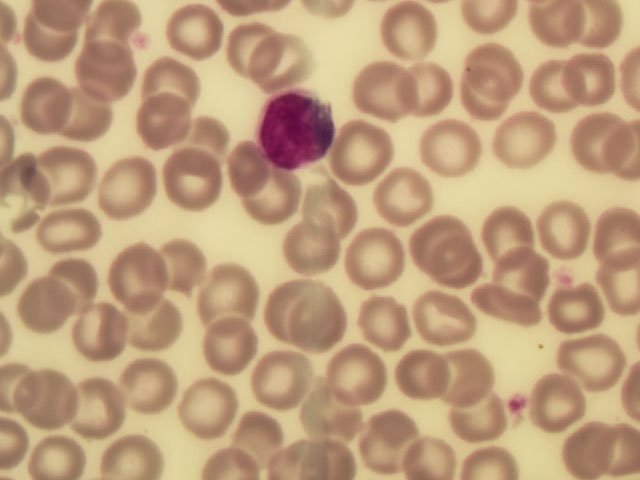Platelets: (504, 389, 526, 429), (134, 30, 158, 57), (553, 265, 571, 284)
RBC: (20, 6, 80, 67), (77, 36, 137, 97), (64, 82, 124, 143), (20, 82, 80, 143), (36, 145, 96, 206), (97, 156, 157, 217), (130, 91, 190, 152), (142, 49, 202, 110), (169, 3, 229, 64), (207, 15, 267, 76), (257, 23, 317, 84), (185, 102, 245, 163), (168, 149, 228, 210), (4, 175, 64, 236), (42, 198, 102, 259), (52, 243, 112, 304), (23, 274, 83, 335), (78, 295, 138, 356), (122, 294, 182, 355), (109, 245, 169, 306), (157, 230, 217, 291), (197, 262, 257, 323), (202, 307, 262, 368), (179, 381, 239, 442), (122, 356, 182, 417), (76, 379, 136, 440), (21, 372, 81, 433), (28, 419, 88, 480), (105, 419, 165, 480), (225, 410, 285, 471), (246, 349, 306, 410), (292, 287, 352, 348), (245, 275, 305, 336), (282, 215, 342, 276), (304, 184, 364, 245), (252, 170, 312, 231), (227, 144, 287, 205), (333, 123, 393, 184), (352, 61, 412, 122), (397, 55, 457, 116), (465, 28, 525, 89), (462, 61, 522, 122), (518, 55, 578, 116), (558, 45, 618, 106), (499, 99, 559, 160), (427, 118, 487, 179), (380, 163, 440, 224), (351, 227, 411, 288), (358, 285, 418, 346), (338, 347, 398, 408), (303, 390, 363, 451), (363, 410, 423, 471), (393, 348, 453, 409), (448, 348, 508, 409), (416, 279, 476, 340), (433, 246, 493, 307), (418, 211, 478, 272), (484, 198, 544, 259), (486, 238, 546, 299), (476, 276, 536, 337), (551, 282, 611, 343), (580, 249, 640, 310), (580, 199, 640, 260), (540, 196, 600, 257), (578, 113, 638, 174), (563, 419, 623, 480), (529, 371, 589, 432), (558, 329, 618, 390), (387, 1, 447, 61), (521, 1, 581, 61)
WBC: (252, 88, 336, 172)
